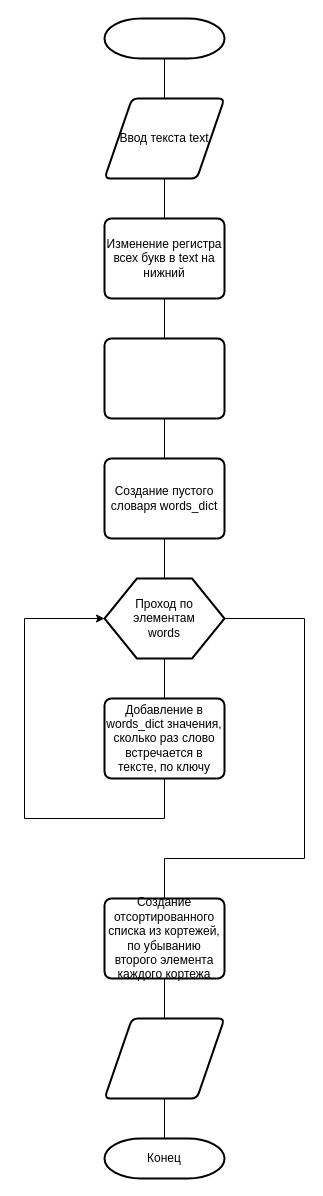
The diagram is 323 pixels wide and 1196 high, and some of its shapes have lost their labels. Here are the shapes that lost their labels. From the top down, the centre of each, then its label:
point (164, 38): Начало
point (164, 378): Cоздание списка words всех слов из text
point (164, 1058): Вывод первых 5 слов
